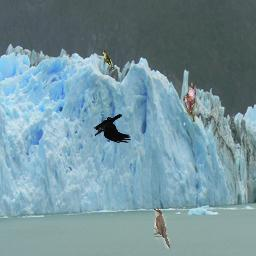Crow: (93, 114, 131, 143)
Cuckoo: (154, 209, 170, 249), (102, 50, 113, 69)
Sparrow: (183, 82, 196, 122)
